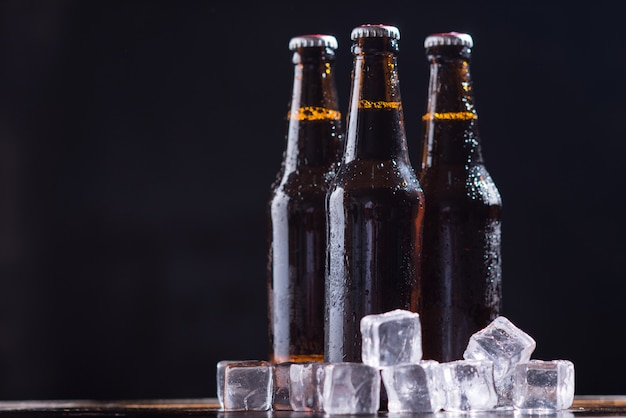alcohol: (323, 25, 428, 413), (414, 29, 504, 408), (270, 36, 356, 403)
